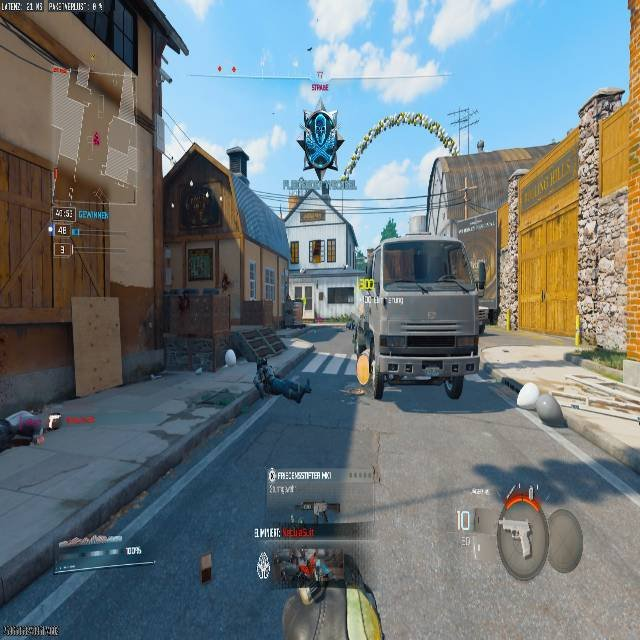head: (45, 411, 63, 431), (256, 357, 268, 369)
player: (296, 106, 345, 180)
